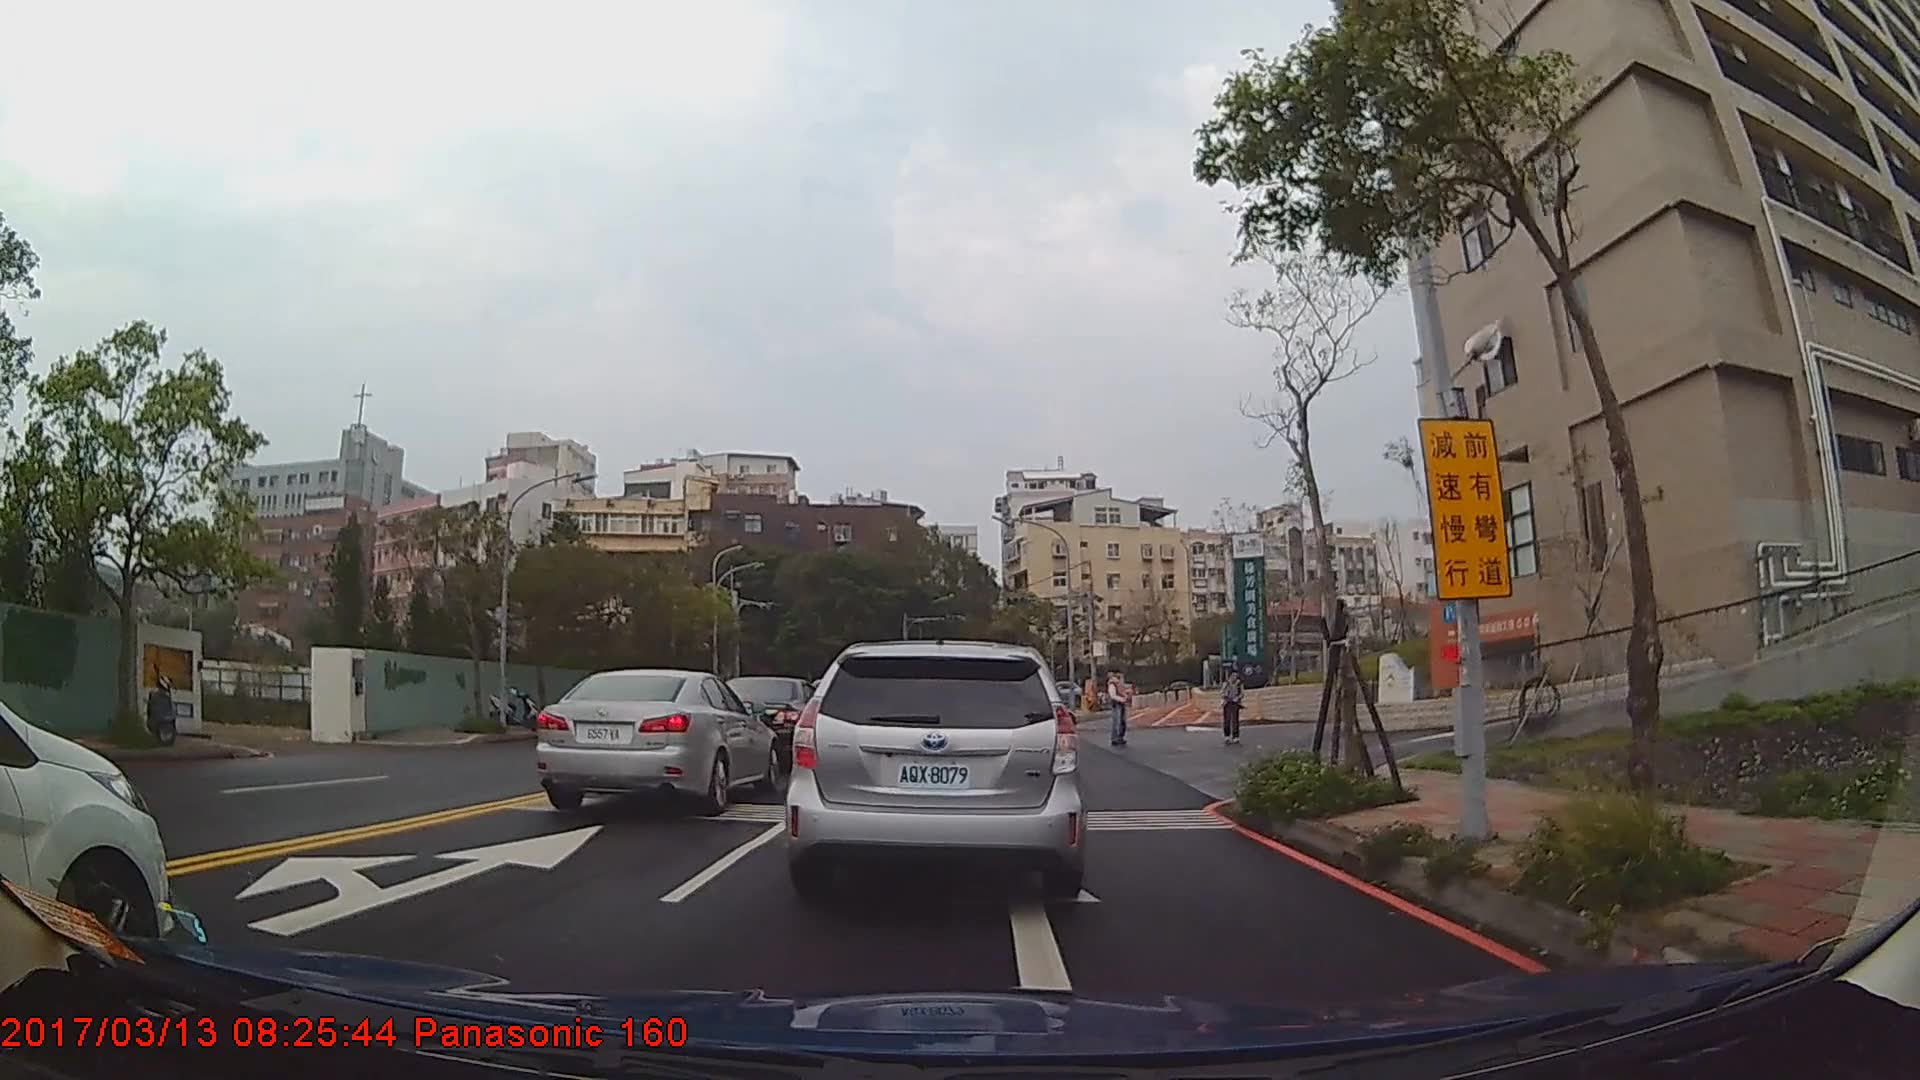pedestrian: (1105, 668, 1133, 746), (1222, 668, 1247, 745)
vehicle: (786, 636, 1087, 897), (0, 697, 173, 960), (534, 668, 781, 810), (709, 675, 825, 762)
